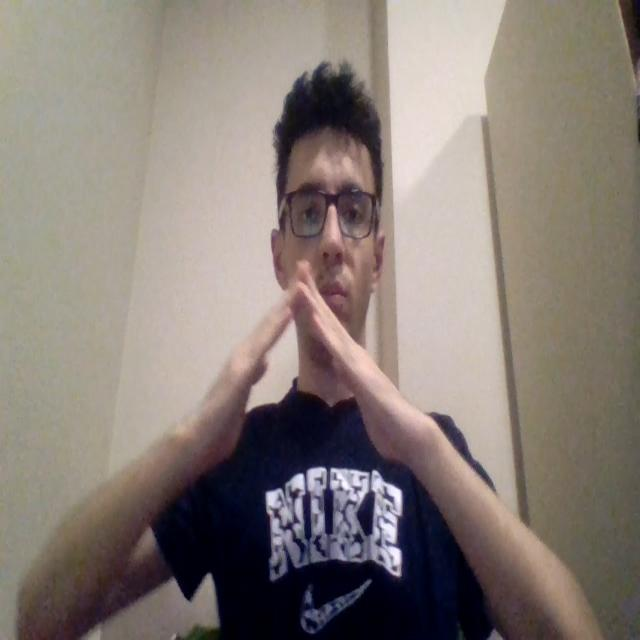house: (185, 266, 412, 467)
